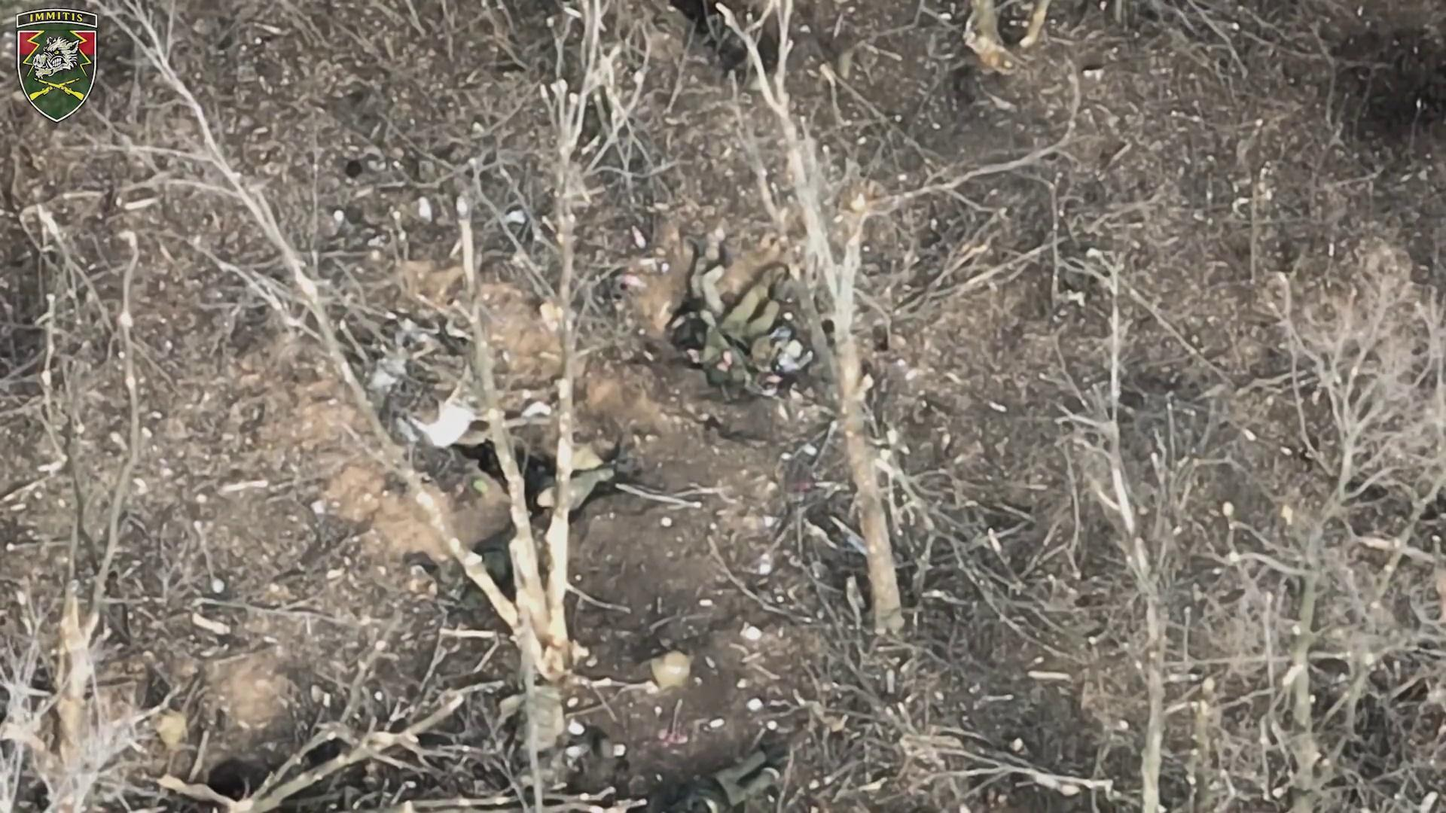person: (468, 450, 621, 606), (700, 258, 810, 400), (658, 734, 802, 812), (664, 222, 728, 330)
trench: (350, 346, 653, 616)
